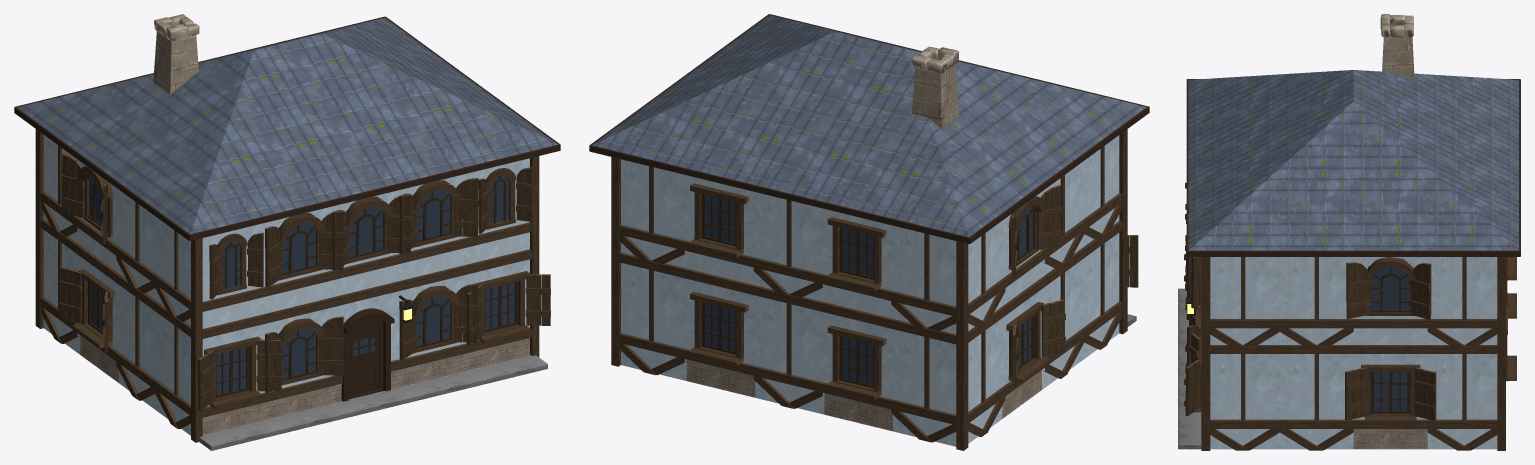
The model's file is hip_house.glb.
The picture shows the model from 3 angles, left to right: view 1: azimuth 30°, elevation 25°; view 2: azimuth 150°, elevation 25°; view 3: azimuth 270°, elevation 25°; orthographic projection. The views are drawn at different scales.
Parts seen in each view (by area): view 1: HipRoof.077, Wall_Plaster_Straight.027, Wall_Plaster_Straight.028, Wall_Plaster_Window_Wide_Round.010, Wall_Plaster_Window_Wide_Round.004, Wall_Plaster_Straight+upper.065, Wall_Plaster_Straight.023, Wall_Plaster_Window_Thin_Round+upper.039, Wall_Plaster_Window_Wide_Flat.001, Wall_Plaster_Window_Wide_Flat.013, Prop_Chimney.083, Wall_Plaster_Straight+upper.066 (+45 smaller); view 2: HipRoof.077, Wall_Plaster_Straight.019, Wall_Plaster_Straight.016, Wall_Plaster_Straight.022, Wall_Plaster_Straight+upper.057, Wall_Plaster_Straight+upper.054, Wall_Plaster_Straight+upper.060, Wall_Plaster_Window_Wide_Flat.017, Wall_Plaster_Window_Wide_Flat.020, Wall_Plaster_Straight.028, Wall_Plaster_Straight.023, Wall_Plaster_Straight+upper.066 (+26 smaller); view 3: HipRoof.077, Wall_Plaster_Straight.029, Wall_Plaster_Straight.030, Wall_Plaster_Straight.034, Wall_Plaster_Straight+upper.067, Wall_Plaster_Straight+upper.068, Wall_Plaster_Straight+upper.072, Wall_Plaster_Window_Wide_Flat.031, Window_Wide_Flat1.032, Wall_Plaster_Window_Wide_Round+upper.069, Window_Wide_Round1.070, WindowShutters_Wide_Round_Open.071 (+14 smaller).
Boxes of the visible parts, x1,y1,x2,y2 form: HipRoof.077: [17, 17, 557, 234]; Wall_Plaster_Straight.027: [116, 273, 157, 411]; Wall_Plaster_Straight.028: [154, 302, 190, 435]; Wall_Plaster_Window_Wide_Round.010: [399, 265, 467, 386]; Wall_Plaster_Window_Wide_Round.004: [264, 297, 333, 419]; Wall_Plaster_Straight+upper.065: [116, 190, 157, 301]; Wall_Plaster_Straight.023: [40, 218, 80, 354]; Wall_Plaster_Window_Thin_Round+upper.039: [202, 223, 266, 328]; Wall_Plaster_Window_Wide_Flat.001: [202, 314, 266, 434]; Wall_Plaster_Window_Wide_Flat.013: [466, 249, 531, 370]; Prop_Chimney.083: [153, 14, 199, 94]; Wall_Plaster_Straight+upper.066: [154, 218, 190, 325]; HipRoof.077: [592, 15, 1146, 236]; Wall_Plaster_Straight.019: [753, 285, 824, 414]; Wall_Plaster_Straight.016: [619, 252, 686, 380]; Wall_Plaster_Straight.022: [891, 319, 956, 446]; Wall_Plaster_Straight+upper.057: [753, 192, 824, 301]; Wall_Plaster_Straight+upper.054: [619, 159, 686, 268]; Wall_Plaster_Straight+upper.060: [891, 225, 956, 333]; Wall_Plaster_Window_Wide_Flat.017: [684, 268, 755, 397]; Wall_Plaster_Window_Wide_Flat.020: [822, 302, 892, 431]; Wall_Plaster_Straight.028: [1081, 221, 1122, 360]; Wall_Plaster_Straight.023: [968, 306, 1005, 443]; Wall_Plaster_Straight+upper.066: [1081, 135, 1122, 247]; HipRoof.077: [1188, 70, 1518, 250]; Wall_Plaster_Straight.029: [1210, 345, 1279, 450]; Wall_Plaster_Straight.030: [1280, 345, 1353, 450]; Wall_Plaster_Straight.034: [1427, 345, 1497, 450]; Wall_Plaster_Straight+upper.067: [1210, 257, 1279, 346]; Wall_Plaster_Straight+upper.068: [1280, 257, 1353, 346]; Wall_Plaster_Straight+upper.072: [1427, 257, 1497, 346]; Wall_Plaster_Window_Wide_Flat.031: [1353, 345, 1427, 449]; Window_Wide_Flat1.032: [1361, 364, 1420, 423]; Wall_Plaster_Window_Wide_Round+upper.069: [1353, 257, 1427, 344]; Window_Wide_Round1.070: [1365, 257, 1415, 315]; WindowShutters_Wide_Round_Open.071: [1346, 262, 1431, 319].
Bounding box in the file's own units: 11.19 × 9.25 × 9.27.
Materials: 8 (5 with a texture image).
